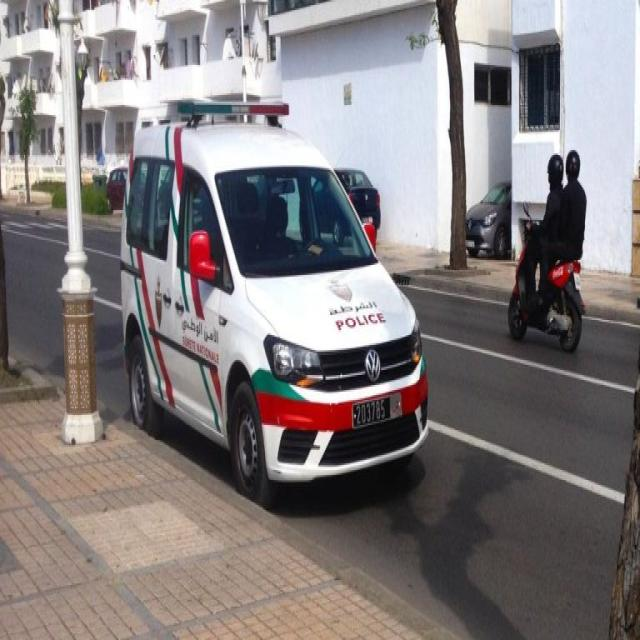Police car: (116, 88, 430, 516)
